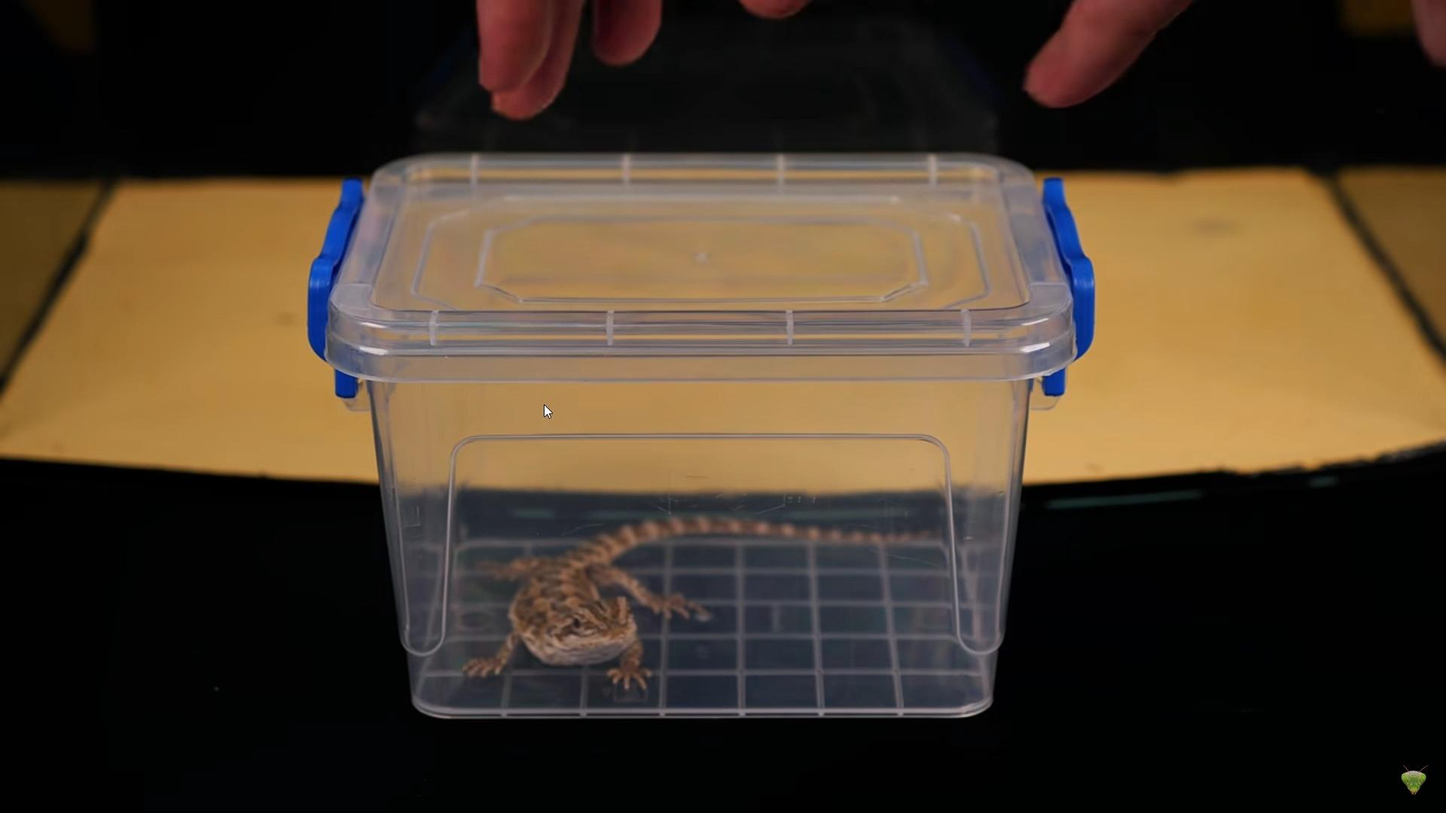lizard: (460, 512, 961, 692)
